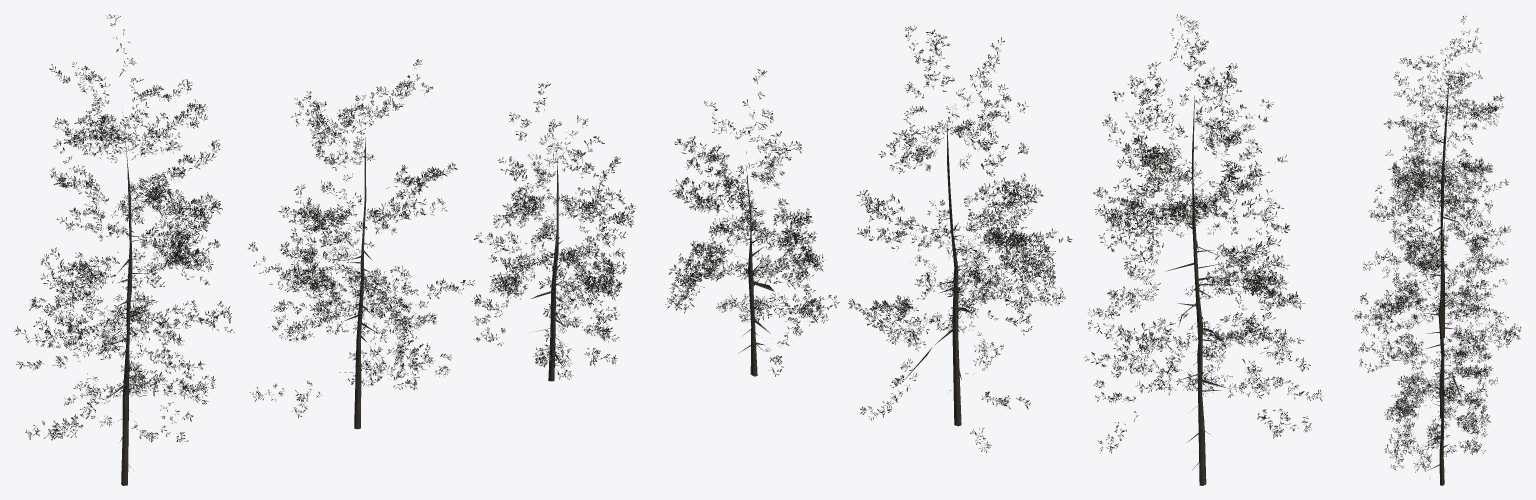
Rendered from pine_sapling_medium.glb.
3 views of the same model, side by side, from view 1: azimuth 30°, elevation 25°; view 2: azimuth 150°, elevation 25°; view 3: azimuth 270°, elevation 25° (orthographic). The views are drawn at different scales.
Parts seen in each view (by area): view 1: pine_sapling_medium_a_LOD0, pine_sapling_medium_b_LOD0, pine_sapling_medium_c_LOD0; view 2: pine_sapling_medium_a_LOD0, pine_sapling_medium_b_LOD0, pine_sapling_medium_c_LOD0; view 3: pine_sapling_medium_a_LOD0, pine_sapling_medium_b_LOD0, pine_sapling_medium_c_LOD0.
Part boxes in pixels (x1,y1,x2,y2): pine_sapling_medium_a_LOD0: (14, 14, 234, 485); pine_sapling_medium_b_LOD0: (248, 59, 474, 429); pine_sapling_medium_c_LOD0: (471, 82, 635, 381); pine_sapling_medium_a_LOD0: (1084, 14, 1322, 485); pine_sapling_medium_b_LOD0: (848, 25, 1072, 452); pine_sapling_medium_c_LOD0: (665, 69, 839, 376); pine_sapling_medium_a_LOD0: (1363, 16, 1510, 338); pine_sapling_medium_b_LOD0: (1352, 162, 1521, 427); pine_sapling_medium_c_LOD0: (1384, 294, 1493, 485).
Bounding box in the file's own units: 15.45 × 11.27 × 5.36.
Materials: 3 (3 with a texture image).
